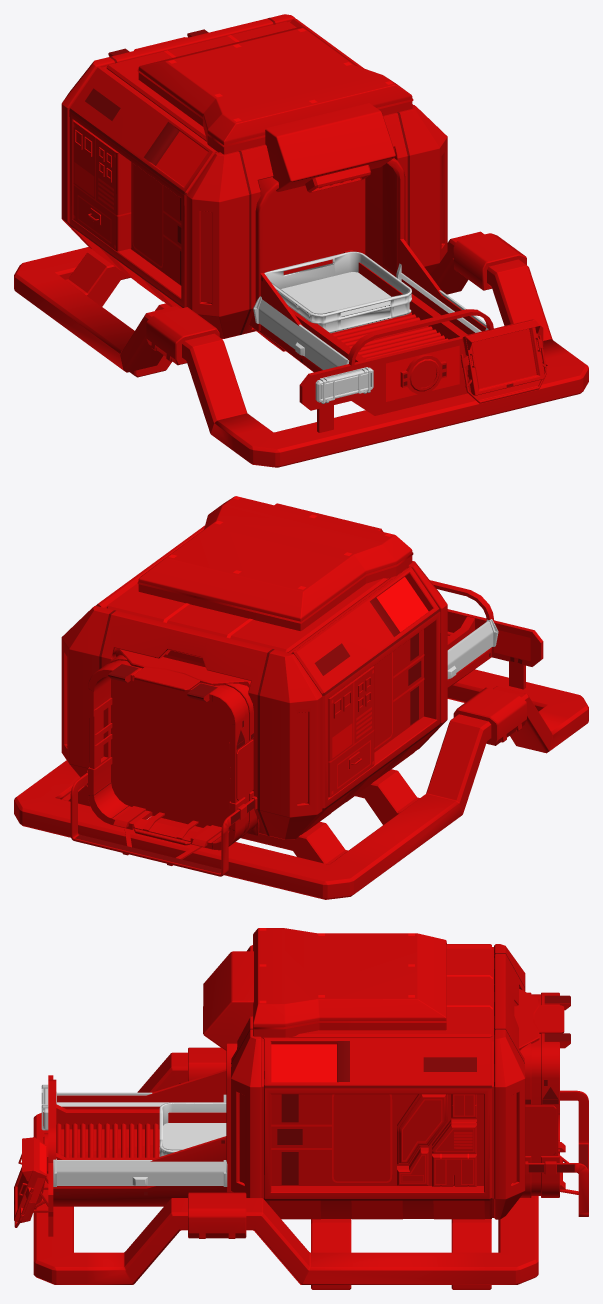
Rendered from Dispenser_1.0.exLODfix.fbx.
3 views of the same model, one above another, from view 1: azimuth 30°, elevation 25°; view 2: azimuth 150°, elevation 25°; view 3: azimuth 270°, elevation 25° (orthographic). The views are drawn at different scales.
Visible parts, largest first — view 1: MinerMk1_static, SM_QuartzCrystal_01; view 2: MinerMk1_static; view 3: MinerMk1_static, SM_QuartzCrystal_01.
Boxes of the visible parts, left/top/right/bottom form: MinerMk1_static: left=14, top=14, right=588, bottom=467; SM_QuartzCrystal_01: left=264, top=251, right=411, bottom=333; MinerMk1_static: left=14, top=496, right=588, bottom=899; MinerMk1_static: left=14, top=928, right=588, bottom=1289; SM_QuartzCrystal_01: left=159, top=1102, right=226, bottom=1156.
Size of the model in its own units: 495 by 346 by 713.
